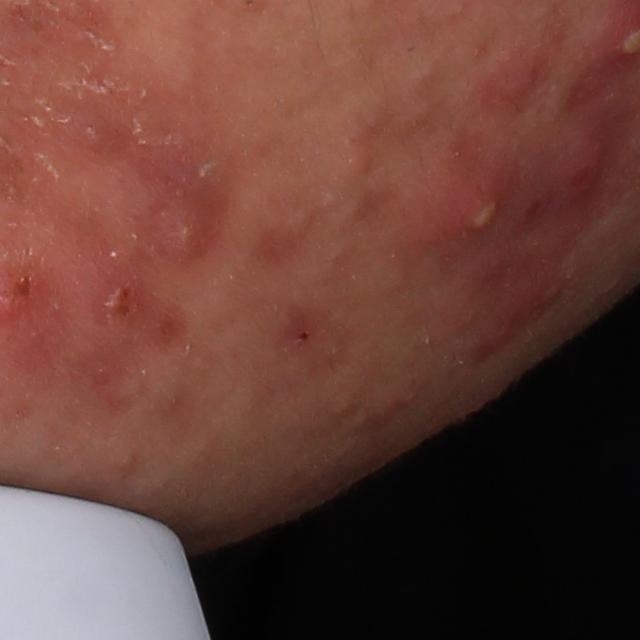papule: (133, 119, 238, 279), (534, 120, 625, 233), (473, 42, 549, 140), (86, 254, 153, 335), (253, 194, 314, 263), (55, 97, 113, 160)
pustule: (438, 165, 515, 261)
